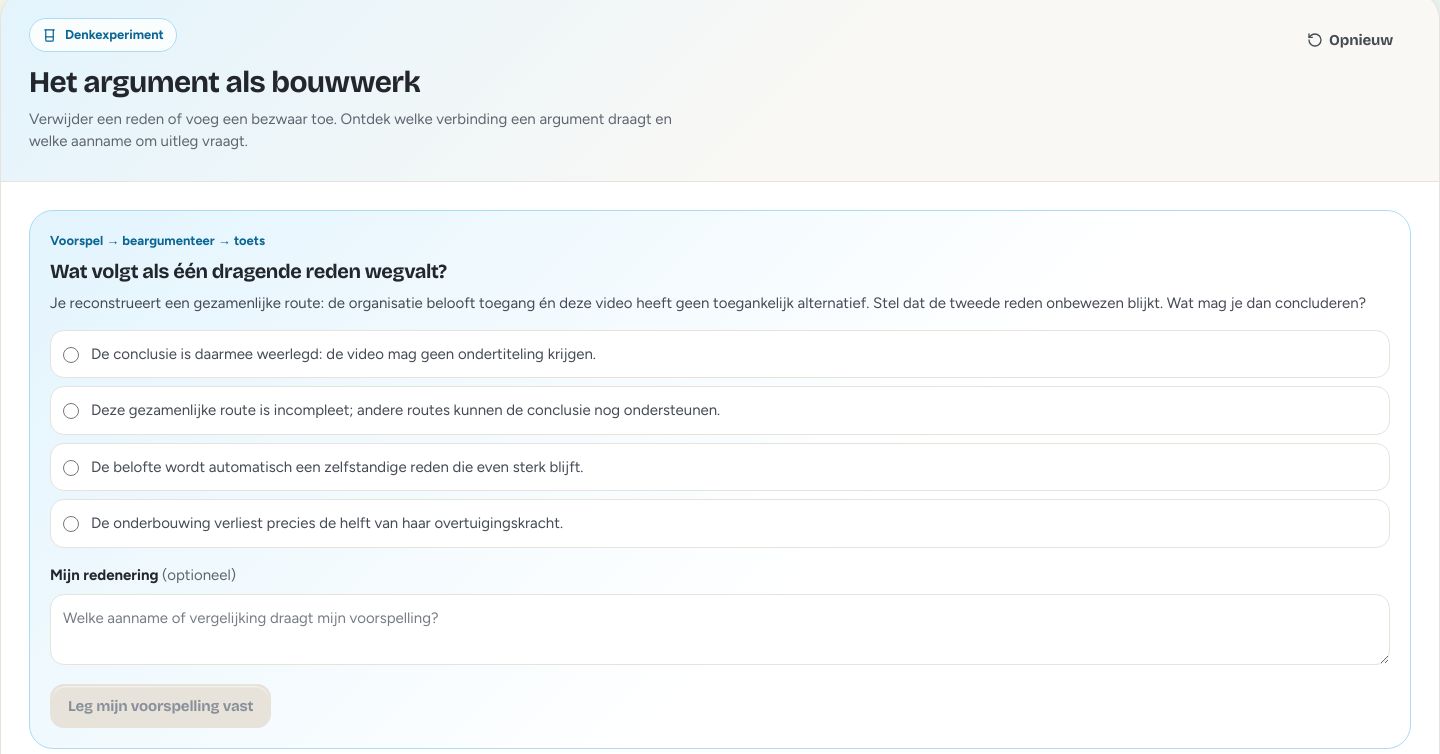
Scenario: accessible argument laboratories without a canvas › requires a committed prediction before showing feedback and clears it on retry
This screenshot has width=1440, height=754.
Expected: the button "Leg mijn voorspelling vast" is disabled, [50, 684, 271, 728]
Expected: the text "De onderliggende redenering:" is not shown
Click the radio button labelled "De conclusie is daarmee weerlegd" at x=71, y=355, box [63, 347, 79, 363]
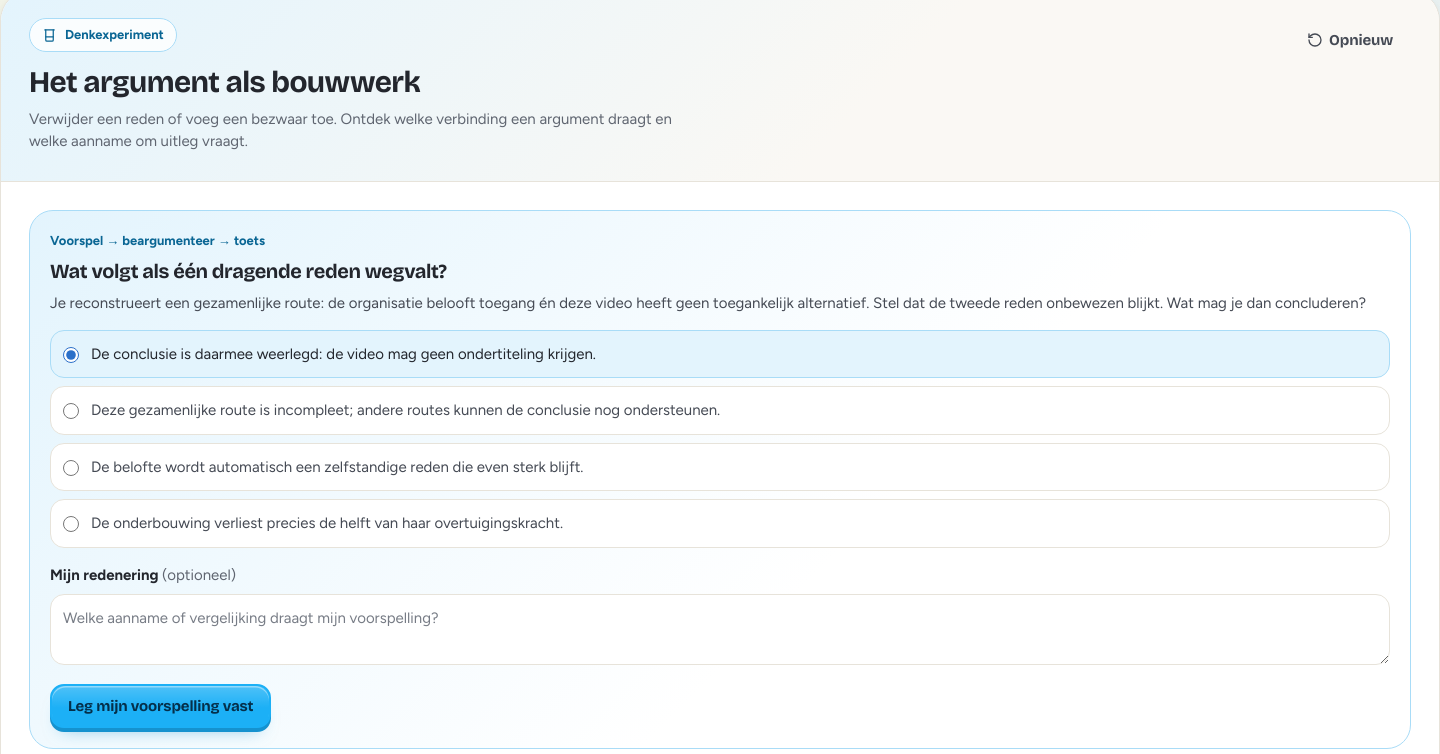
Type "Ik denk dat een ontbrekende reden een verkeerde conclusie oplevert." into the text box labelled "Mijn redenering (optioneel)" at x=720, y=629, box [50, 594, 1390, 665]
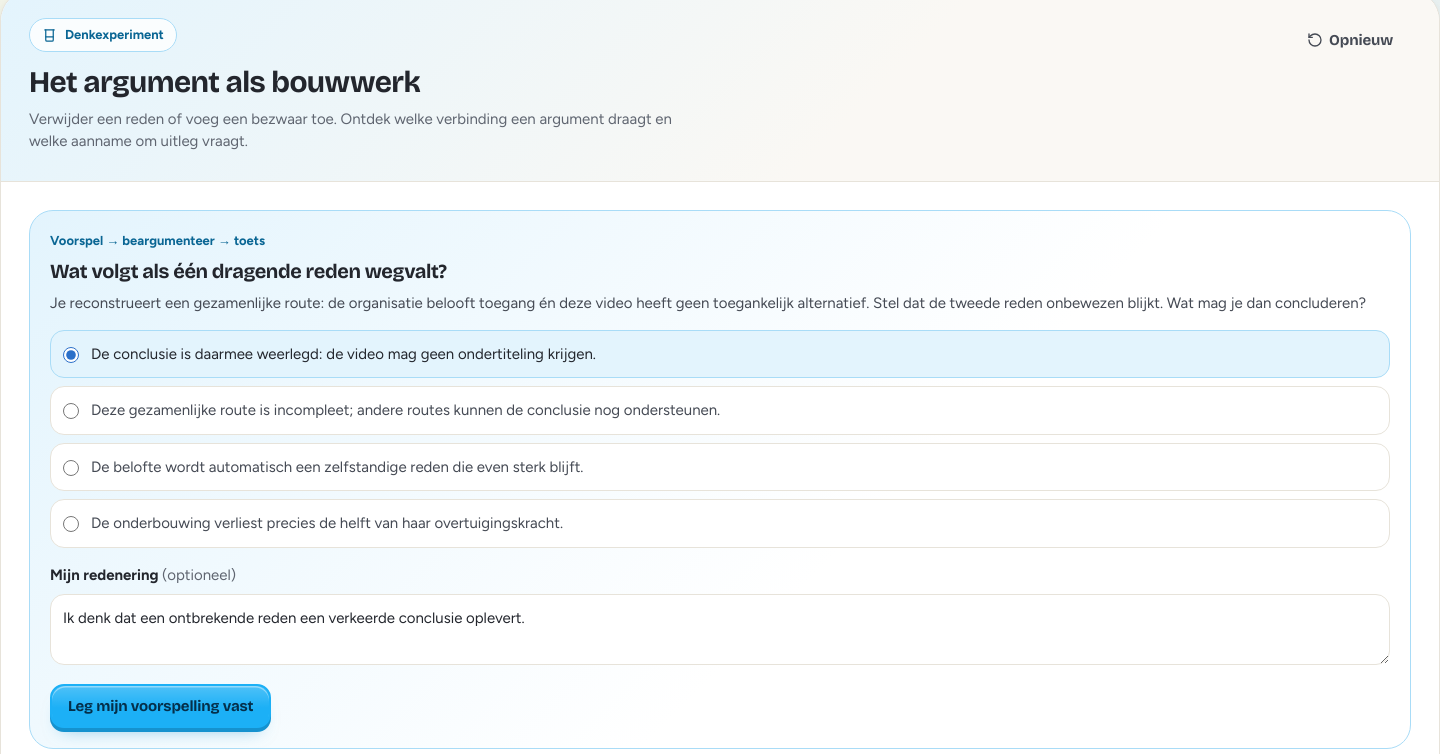
Expected: the text "De onderliggende redenering:" is not shown
Click the button "Leg mijn voorspelling vast" at x=161, y=706, box [50, 684, 271, 728]
(page scrolled)
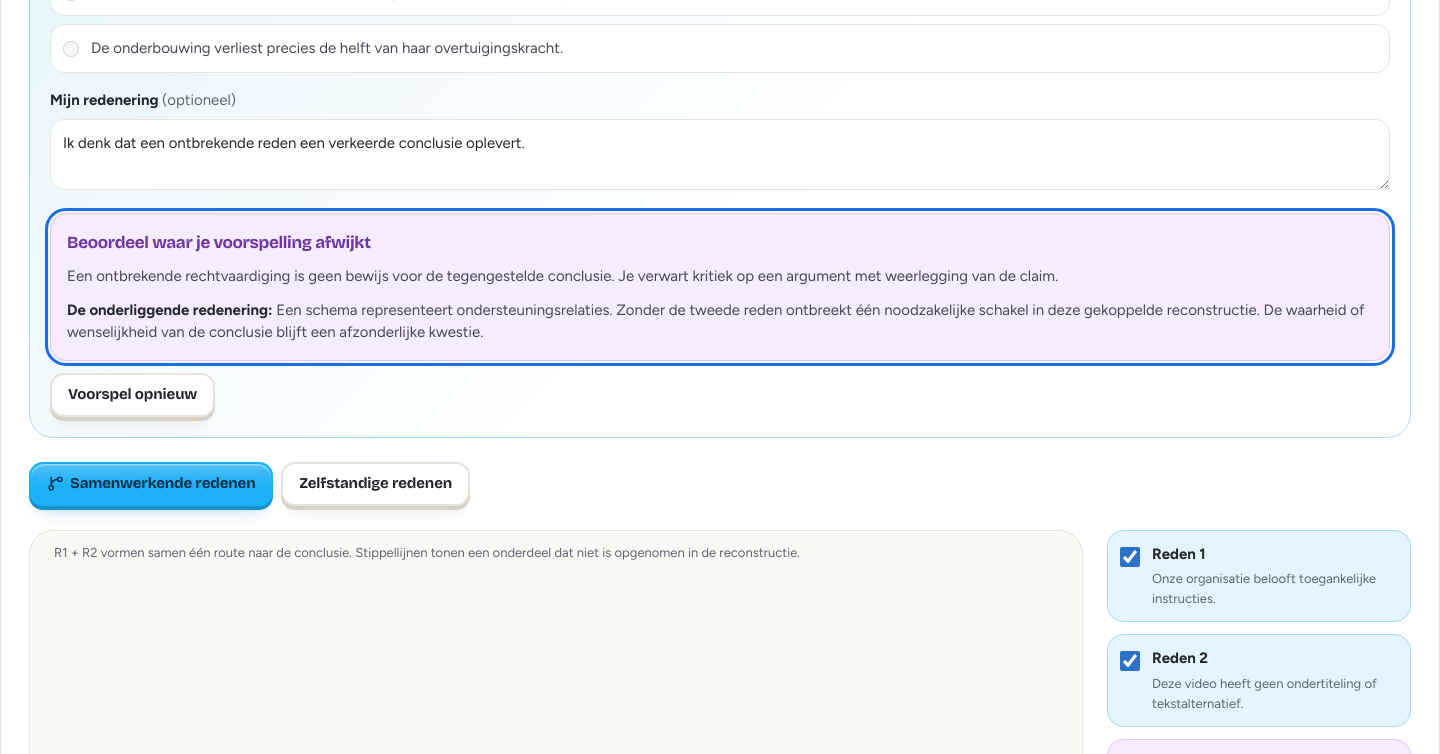
Expected: the text "Je verwart kritiek op een argument" is shown, [67, 267, 1058, 285]
Expected: the text "De onderliggende redenering:" is shown, [67, 301, 272, 319]
Click the button "Voorspel opnieuw" at x=133, y=395, box [50, 373, 215, 417]
(page scrolled)
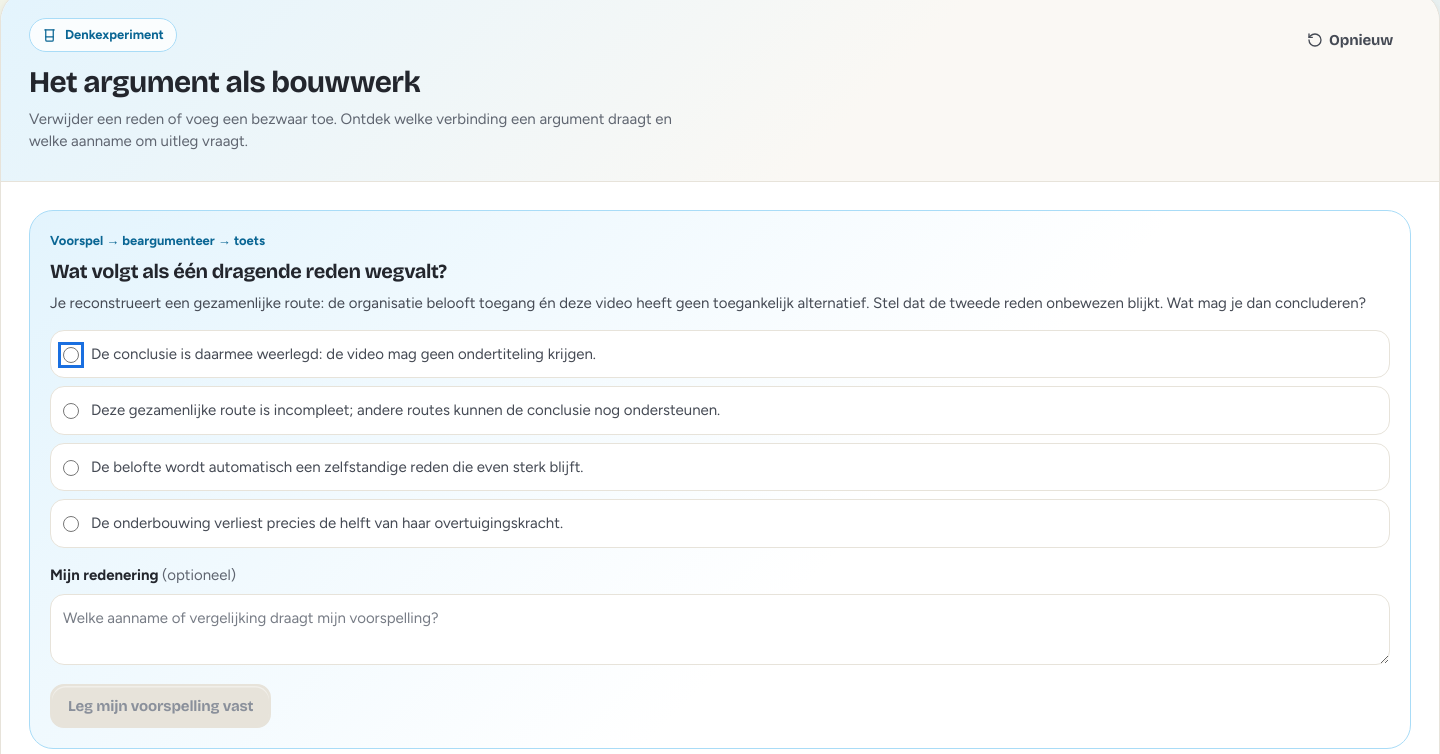
Expected: the text "De onderliggende redenering:" is gone
Expected: the text box labelled "Mijn redenering (optioneel)" is empty, [50, 594, 1390, 665]
Expected: the button "Leg mijn voorspelling vast" is disabled, [50, 684, 271, 728]
